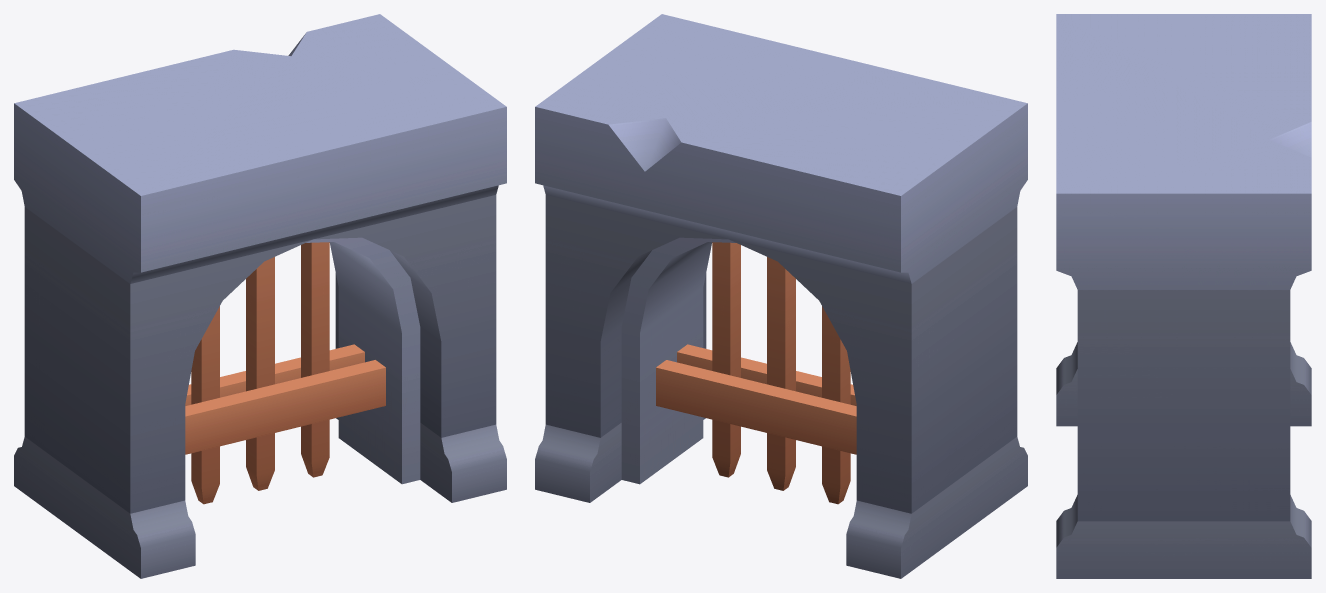
The model's file is wall-gate.glb.
The picture shows the model from 3 angles, left to right: view 1: azimuth 30°, elevation 25°; view 2: azimuth 150°, elevation 25°; view 3: azimuth 270°, elevation 25°; orthographic projection.
Visible parts, largest first — view 1: wall-gate; view 2: wall-gate; view 3: wall-gate.
Part boxes in pixels (x1,y1,x2,y2): wall-gate: (14, 14, 506, 578); wall-gate: (535, 14, 1027, 578); wall-gate: (1056, 14, 1311, 578).
Size of the model in its own units: 1 by 1 by 0.6.
Materials: 1 (1 with a texture image).
